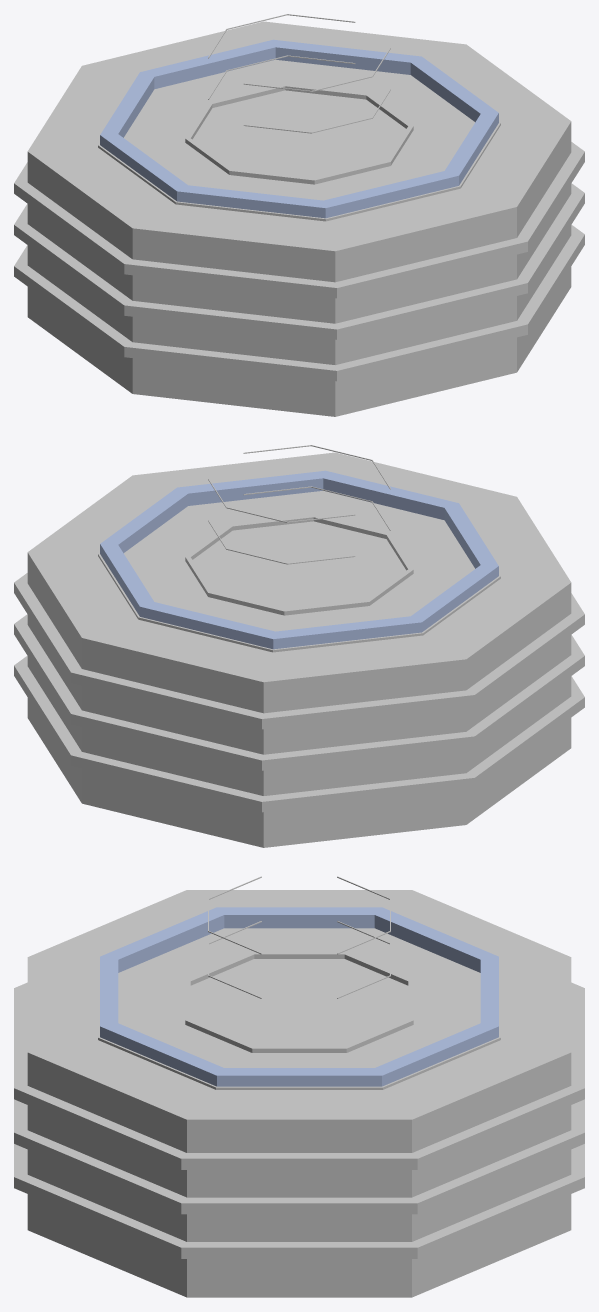
File: Teleporter.fbx
3 renders of one model, top to bottom at view 1: azimuth 30°, elevation 25°; view 2: azimuth 150°, elevation 25°; view 3: azimuth 270°, elevation 25°, orthographic. The views are drawn at different scales.
Visible parts, largest first — view 1: Portal:Mesh; view 2: Portal:Mesh; view 3: Portal:Mesh.
Part boxes in pixels (box(x1,y1,x2,y2)): Portal:Mesh: box(14, 14, 584, 416); Portal:Mesh: box(14, 445, 584, 847); Portal:Mesh: box(14, 876, 584, 1297).
Size of the model in its own units: 5.82 by 3.01 by 5.82.
